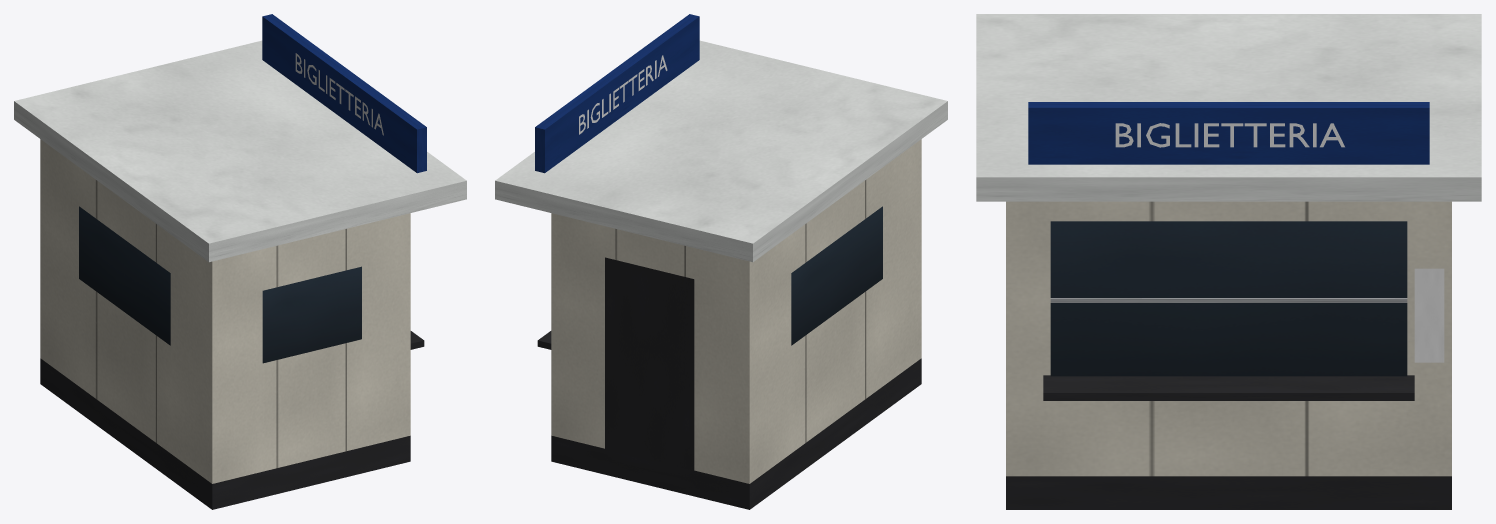
Rendered from SM_Morin_Biglietteria.fbx.
3 views of the same model, side by side, from view 1: azimuth 30°, elevation 25°; view 2: azimuth 150°, elevation 25°; view 3: azimuth 270°, elevation 25° (orthographic). The views are drawn at different scales.
Visible parts, largest first — view 1: SM_Morin_Biglietteria; view 2: SM_Morin_Biglietteria; view 3: SM_Morin_Biglietteria.
Part boxes in pixels (box(x1,y1,x2,y2)): SM_Morin_Biglietteria: box(14, 14, 466, 509); SM_Morin_Biglietteria: box(495, 14, 947, 509); SM_Morin_Biglietteria: box(976, 14, 1481, 509).
Size of what is drawn, in the model's own units: 260 by 340 by 310.
Materials: 1 (1 with a texture image).
